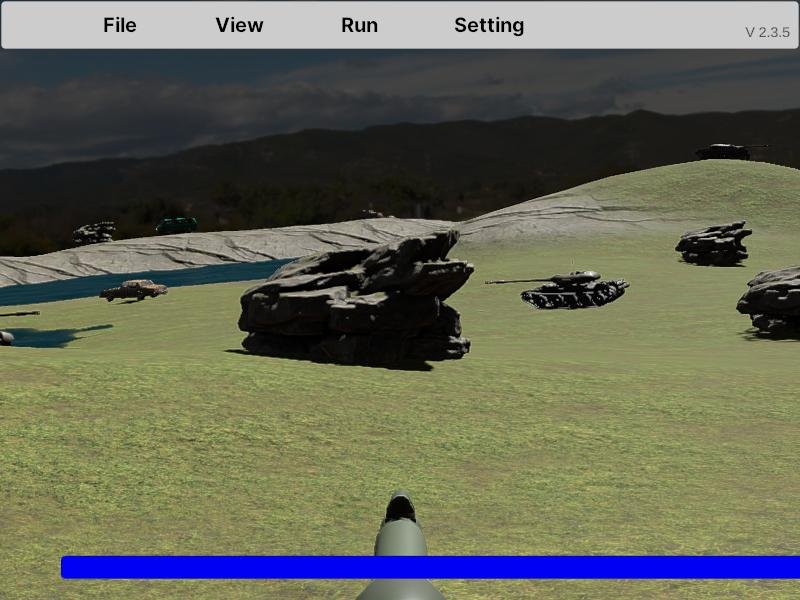Tank: (484, 270, 631, 310), (0, 306, 40, 352), (0, 307, 41, 350)
car: (100, 279, 167, 302), (101, 279, 168, 302)
